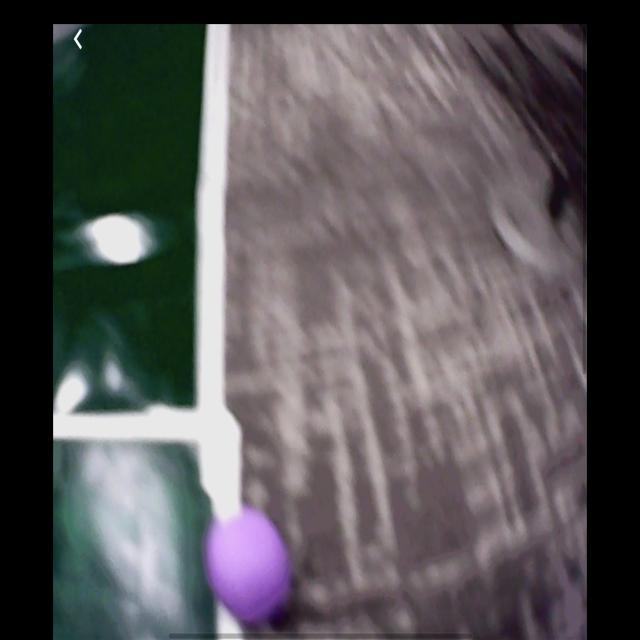ball: (203, 505, 294, 627)
